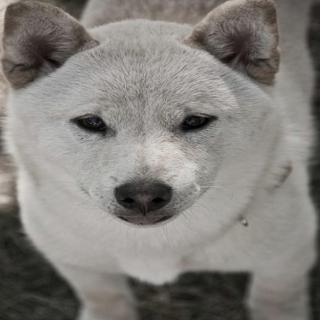dog: (0, 0, 300, 235)
nose: (109, 169, 176, 219)
